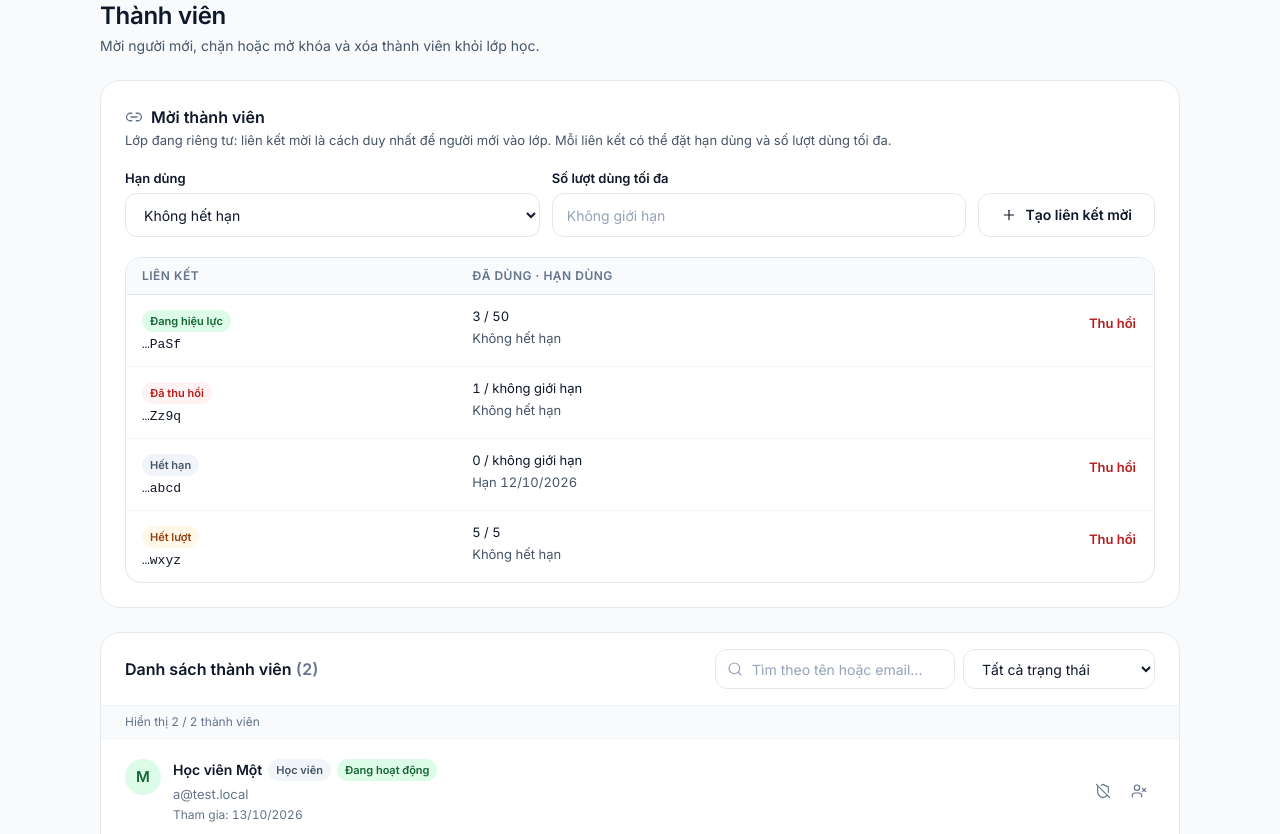
Test: StudioMembers - create an invite › puts keyboard focus back on "Tạo liên kết mời" when the link dialog closes (Escape or the close button)
Expected: the table is shown, [126, 258, 1154, 582]
Click the button "Tạo liên kết mời" at (1067, 215), box [978, 193, 1155, 237]
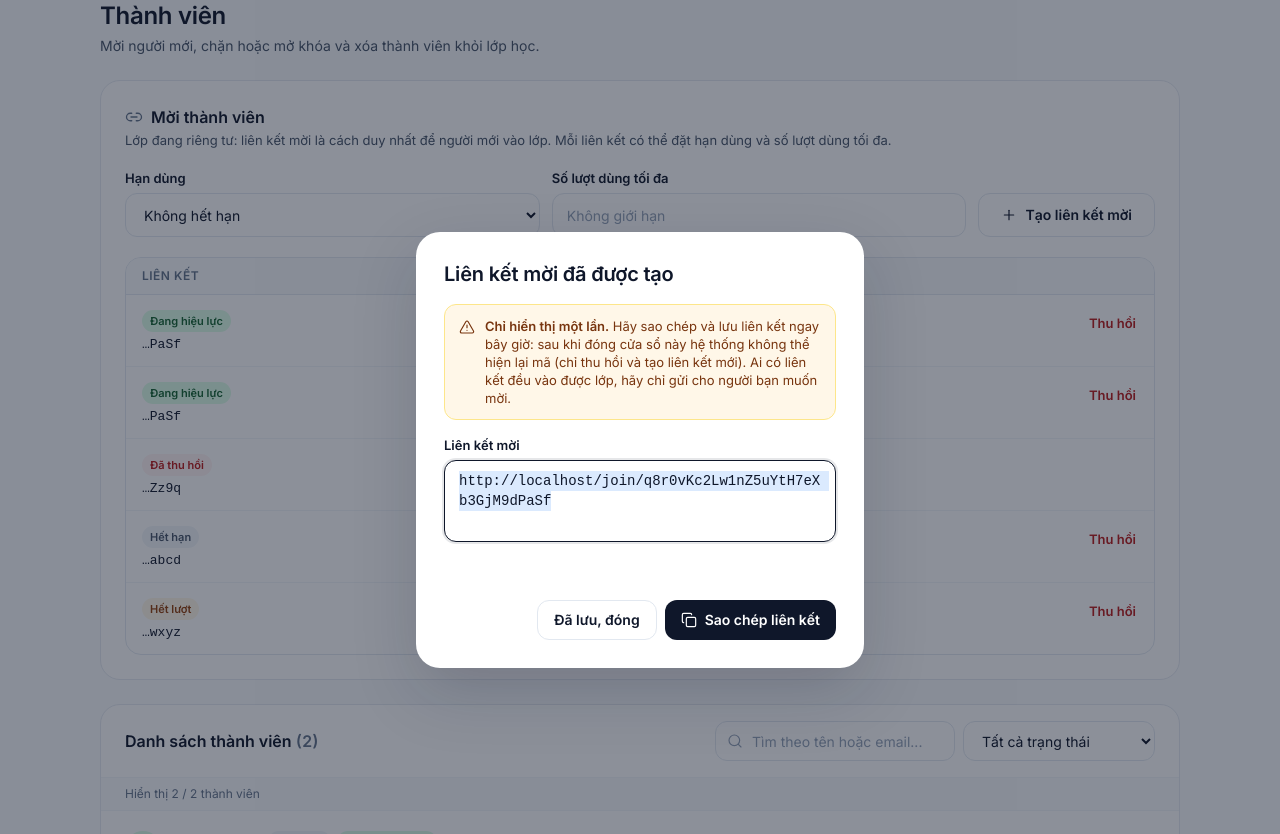
Expected: the dialog "Liên kết mời đã được tạo" is shown, [416, 232, 864, 668]
Press Escape
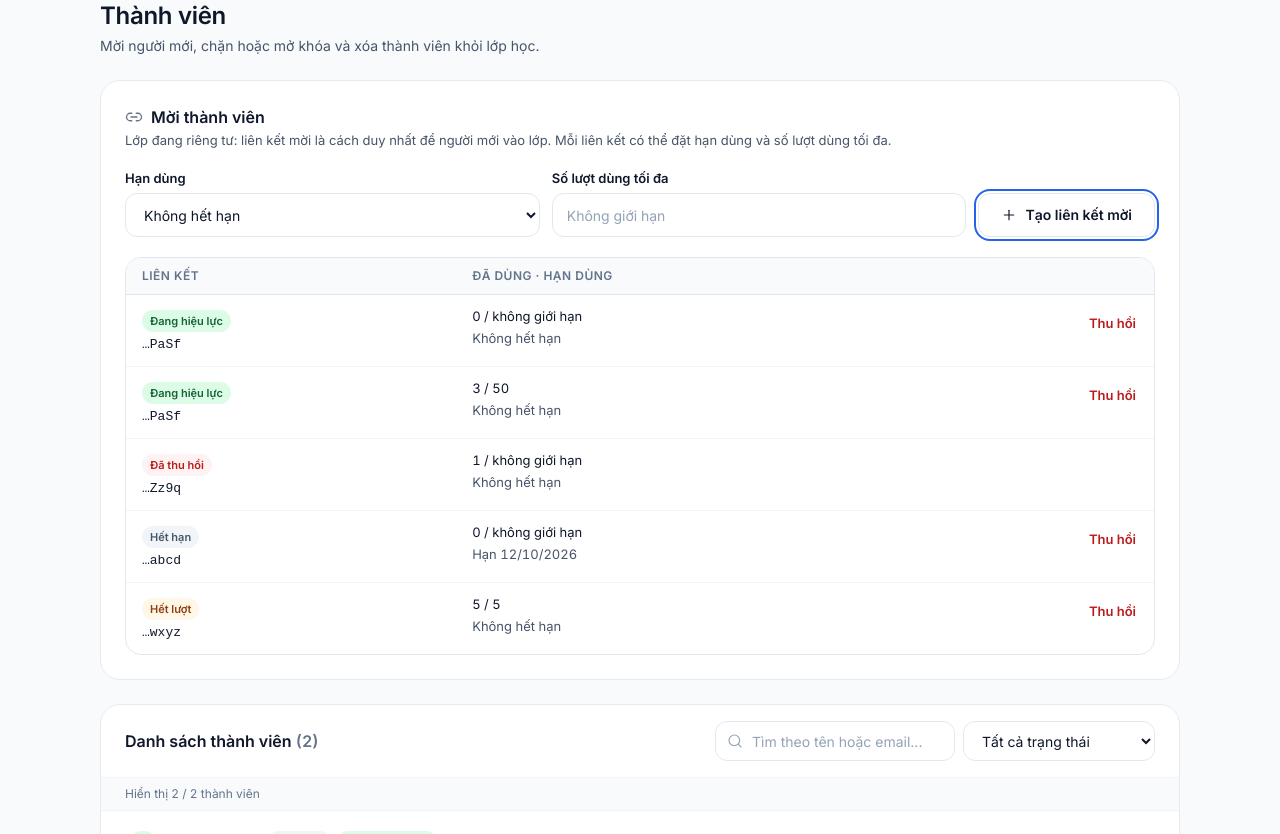
Expected: the dialog is gone
